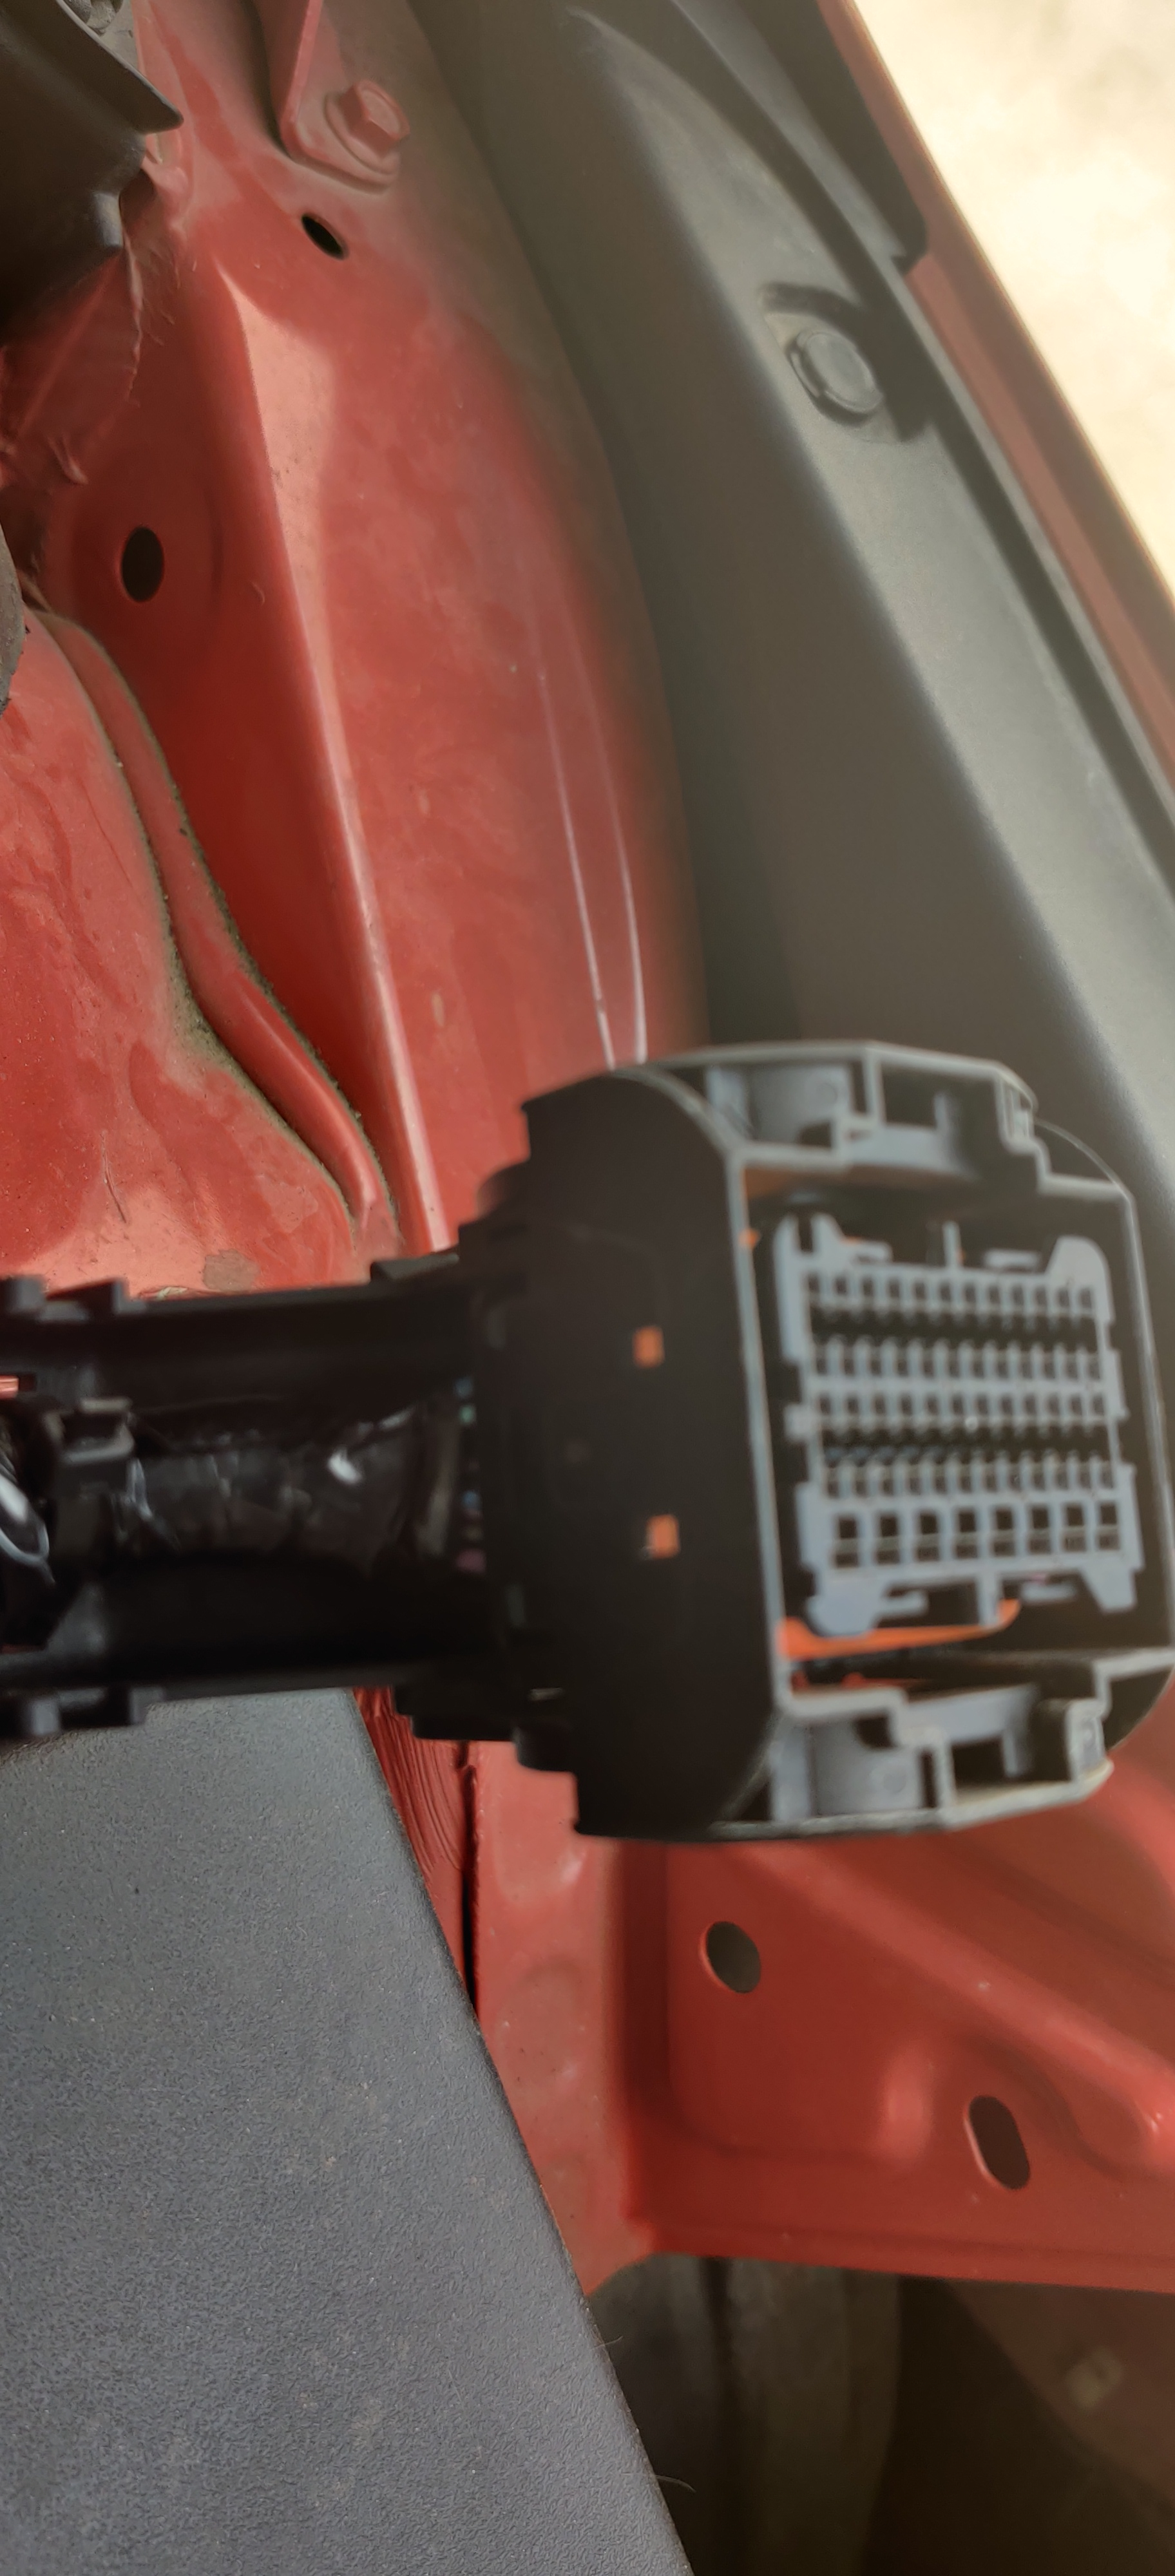connector: (437, 959, 1160, 1881)
